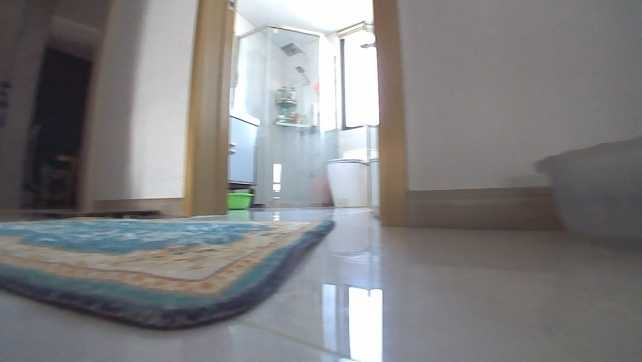blanket: (0, 214, 335, 330)
toilet: (324, 146, 369, 206)
